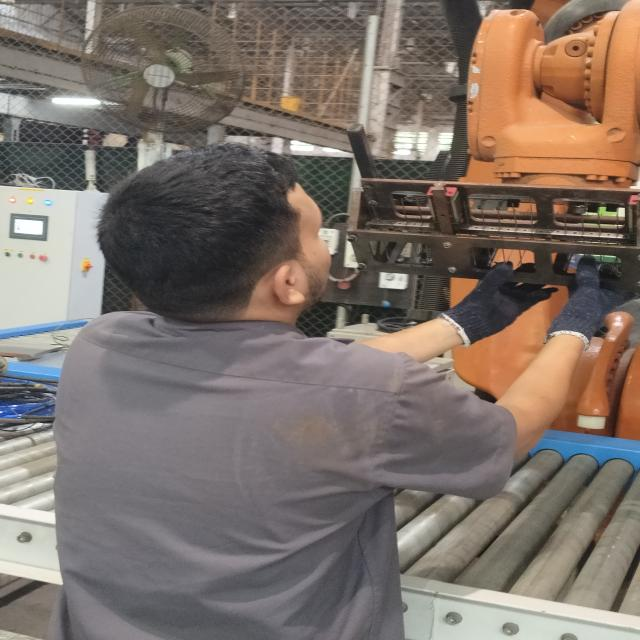Gloves-Detection: (430, 261, 534, 354), (551, 248, 626, 348)
